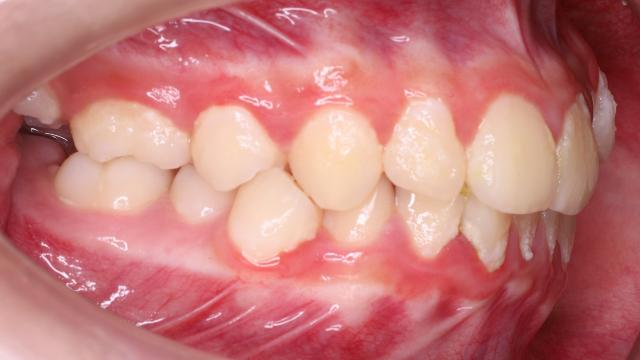canine class II full class: (228, 90, 466, 272)
molar class II full class: (44, 91, 190, 219)
